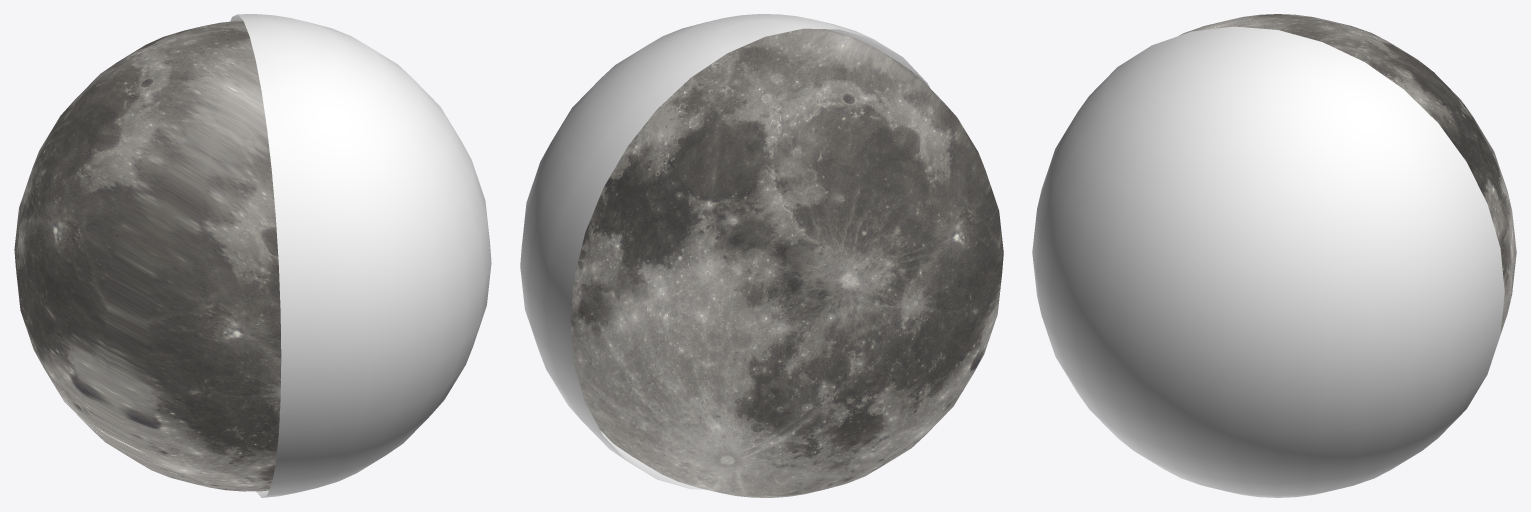
The model's file is amphibians_monn_v2.glb.
3 renders of one model, left to right at view 1: azimuth 30°, elevation 25°; view 2: azimuth 150°, elevation 25°; view 3: azimuth 270°, elevation 25°, orthographic.
Visible parts, largest first — view 1: Moon, Moon_Shade; view 2: Moon, Moon_Shade; view 3: Moon_Shade, Moon.
Boxes of the visible parts, <box> form: Moon: <box>14,21,281,491</box>; Moon_Shade: <box>230,14,491,497</box>; Moon: <box>570,28,1003,497</box>; Moon_Shade: <box>520,14,929,489</box>; Moon_Shade: <box>1032,26,1504,497</box>; Moon: <box>1179,14,1516,333</box>.
Size of the model in its own units: 16.38 by 16.61 by 16.38.
2 materials, 1 textured.
